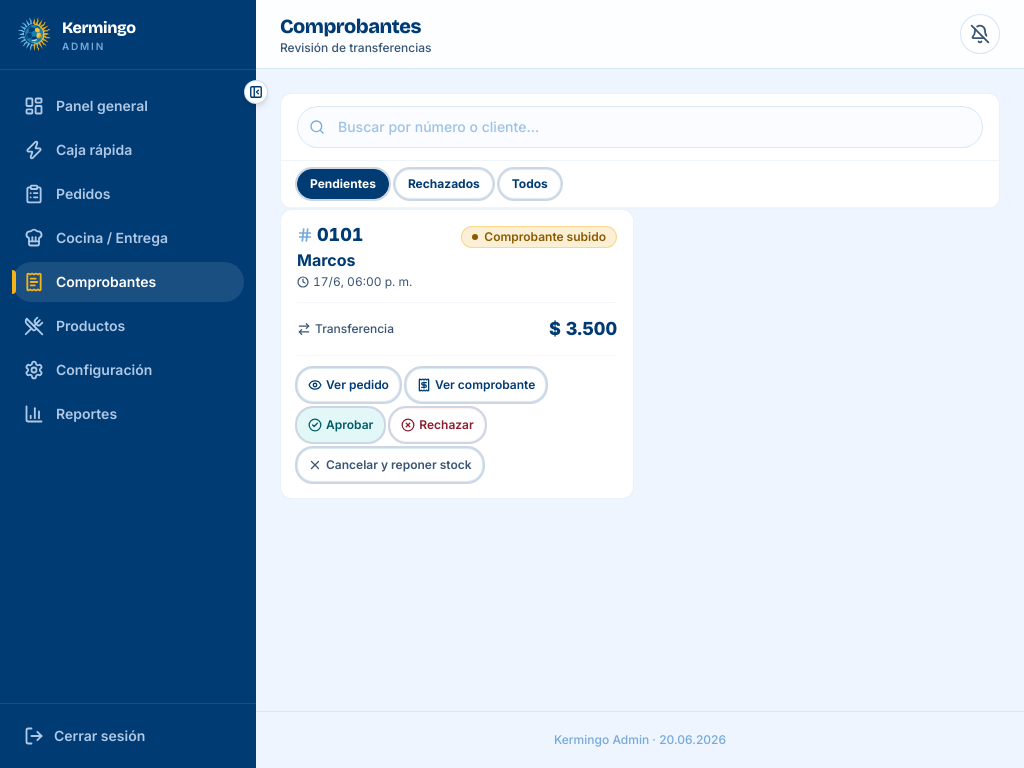
Scenario: ComprobantesScreen › Cancelar y reponer stock (cancel) action › calls PATCH /cancelar and removes the order from the list
Expected: the text "Marcos" is shown, left=297, top=250, right=356, bottom=270
What coordinates should you click on to do the following:
click the button "Cancelar y reponer stock"
I would click on:
 (390, 465)
Its box is left=297, top=448, right=482, bottom=482.
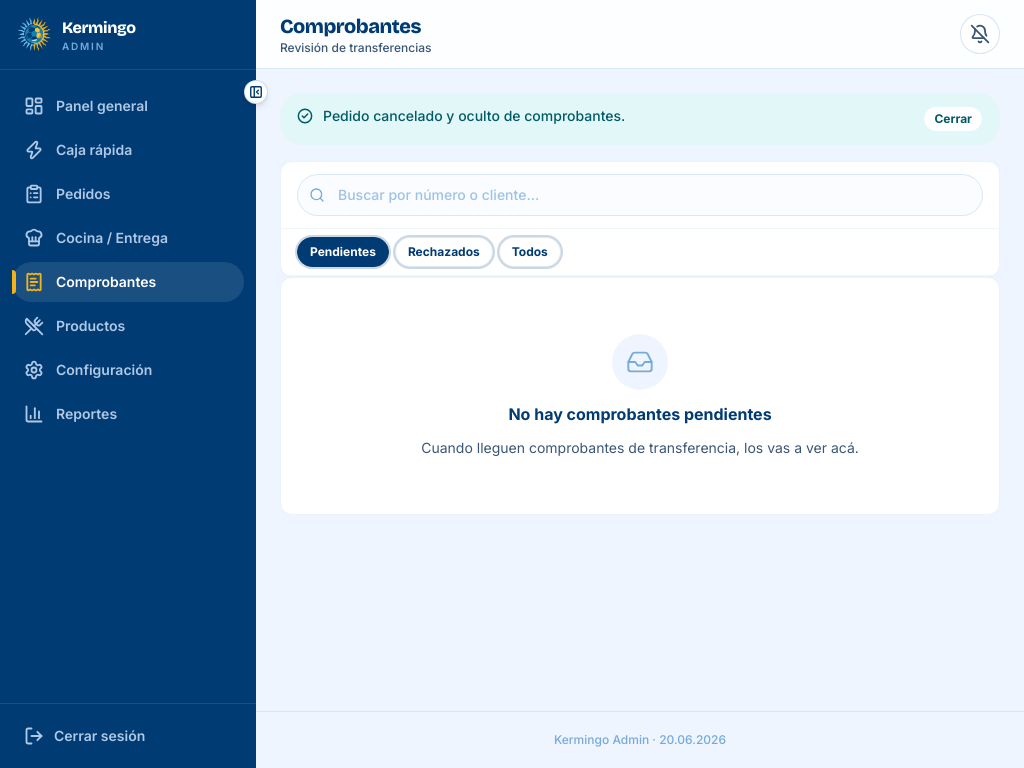
Expected: the text "Marcos" is gone
